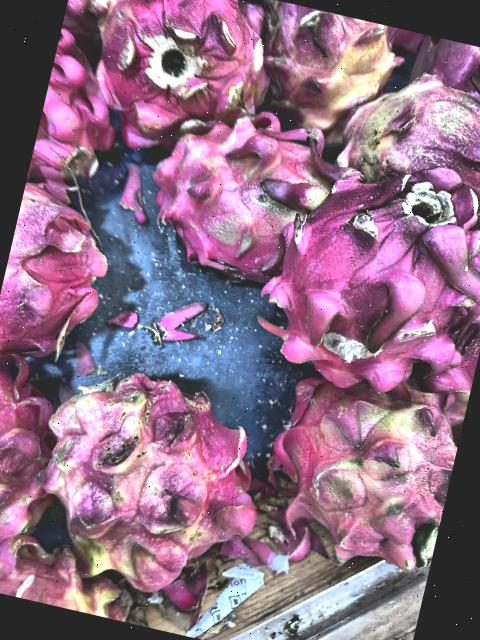buah-naga-belum-matang: (21, 351, 272, 594), (254, 344, 471, 585), (134, 94, 330, 278), (333, 62, 480, 238), (244, 0, 401, 135), (0, 371, 67, 579)
buah-naga-matang: (267, 158, 480, 402), (72, 0, 260, 129), (0, 175, 118, 364), (28, 42, 120, 186), (417, 37, 480, 138)
